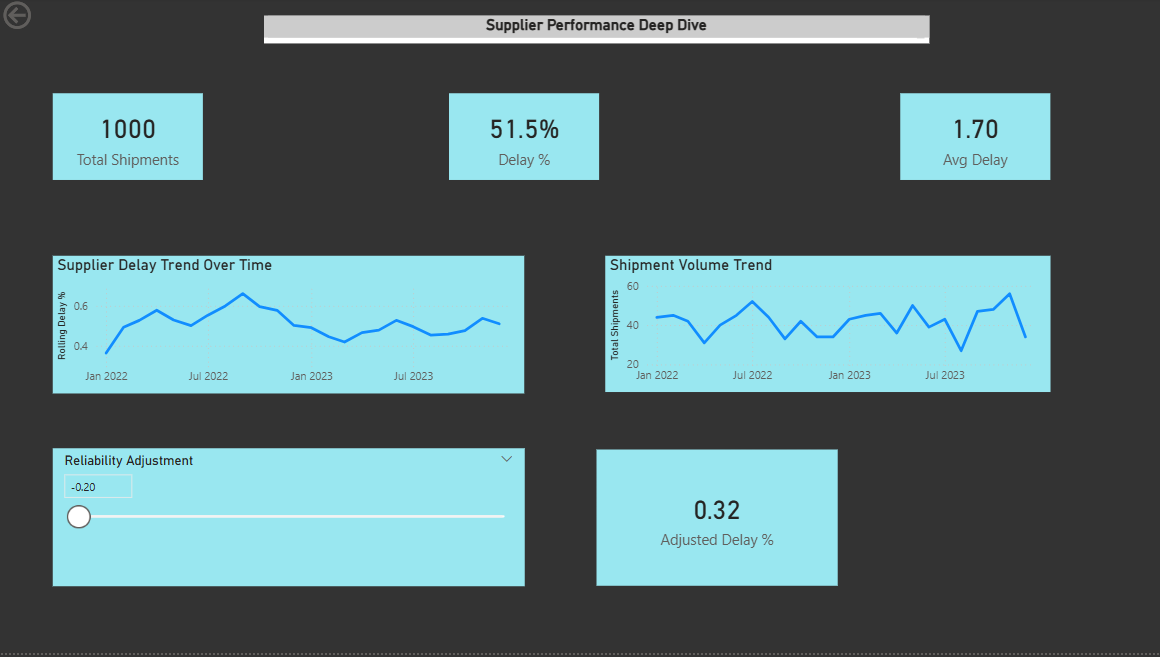

The page's visual inventory and layout, read from the dashboard file:
{"tool":"powerbi","page":{"name":"Supplier Deep Dive","canvas":[1280,720],"ordinal":1},"visuals":[{"type":"actionButton","box":[0,0,100,40],"z":0},{"type":"actionButton","box":[0,0,100,40],"z":1000},{"type":"card","fields":{"Values":["shipment_data.Total Shipments"]},"box":[58.7,105.2,165.1,95.4],"z":2000},{"type":"card","fields":{"Values":["shipment_data.Avg Delay"]},"box":[989.3,105.2,165.1,95.4],"z":3000},{"type":"card","fields":{"Values":["shipment_data.Delay %"]},"box":[494,105.2,165.1,95.4],"z":4000},{"type":"lineChart","title":"Supplier Delay Trend Over Time","fields":{"Y":["shipment_data.Rolling Delay %"],"Category":["DateTable.Date.Variation.Date Hierarchy.Year","DateTable.Date.Variation.Date Hierarchy.Month"]},"box":[59,284,517.3,150.9],"z":5000},{"type":"lineChart","title":"Shipment Volume Trend","fields":{"Y":["shipment_data.Total Shipments"],"Category":["DateTable.Date"]},"box":[665.5,284,488.5,149.6],"z":6000},{"type":"slicer","fields":{"Values":["Reliability Adjustment.Reliability Adjustment"]},"box":[59,495.4,517.3,150.9],"z":7000},{"type":"card","fields":{"Values":["shipment_data.Adjusted Delay %"]},"box":[655.9,496.7,264.8,149.6],"z":8000},{"type":"textbox","title":"Supplier Performance Deep Dive","box":[290.9,20.6,730,30.2],"z":12000}]}

Visuals, with their boxes in screenshot pixels (x1, y1, x2, y2), scaled from the page's 1280x720 canvas onto the 1160x657 screenshot:
actionButton: crop(0, 0, 91, 36)
actionButton: crop(0, 0, 91, 36)
card - shipment_data.Total Shipments: crop(53, 96, 203, 183)
card - shipment_data.Avg Delay: crop(897, 96, 1046, 183)
card - shipment_data.Delay %: crop(448, 96, 597, 183)
"Supplier Delay Trend Over Time" lineChart: crop(53, 259, 522, 397)
"Shipment Volume Trend" lineChart: crop(603, 259, 1046, 396)
slicer - Reliability Adjustment.Reliability Adjustment: crop(53, 452, 522, 590)
card - shipment_data.Adjusted Delay %: crop(594, 453, 834, 590)
"Supplier Performance Deep Dive" textbox: crop(264, 19, 925, 46)
